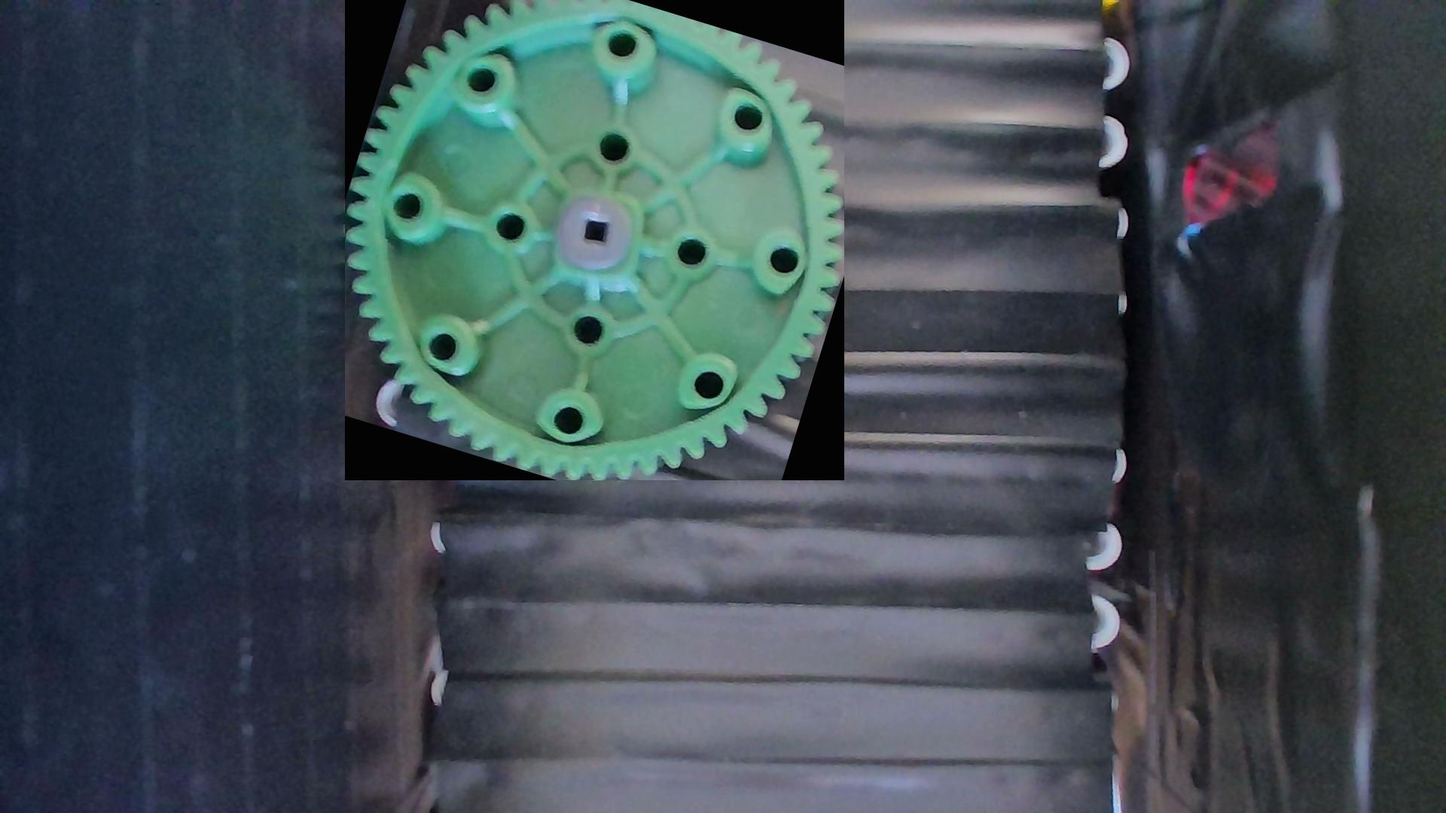gear: (345, 0, 844, 480)
